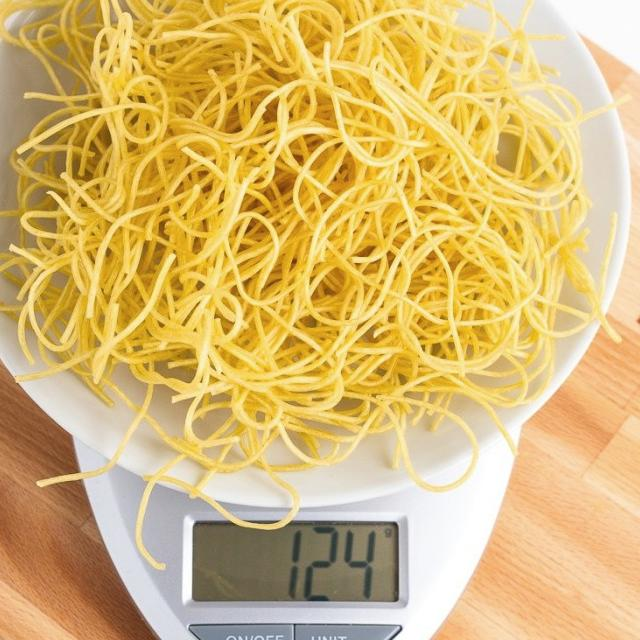noodles: (0, 0, 637, 531)
